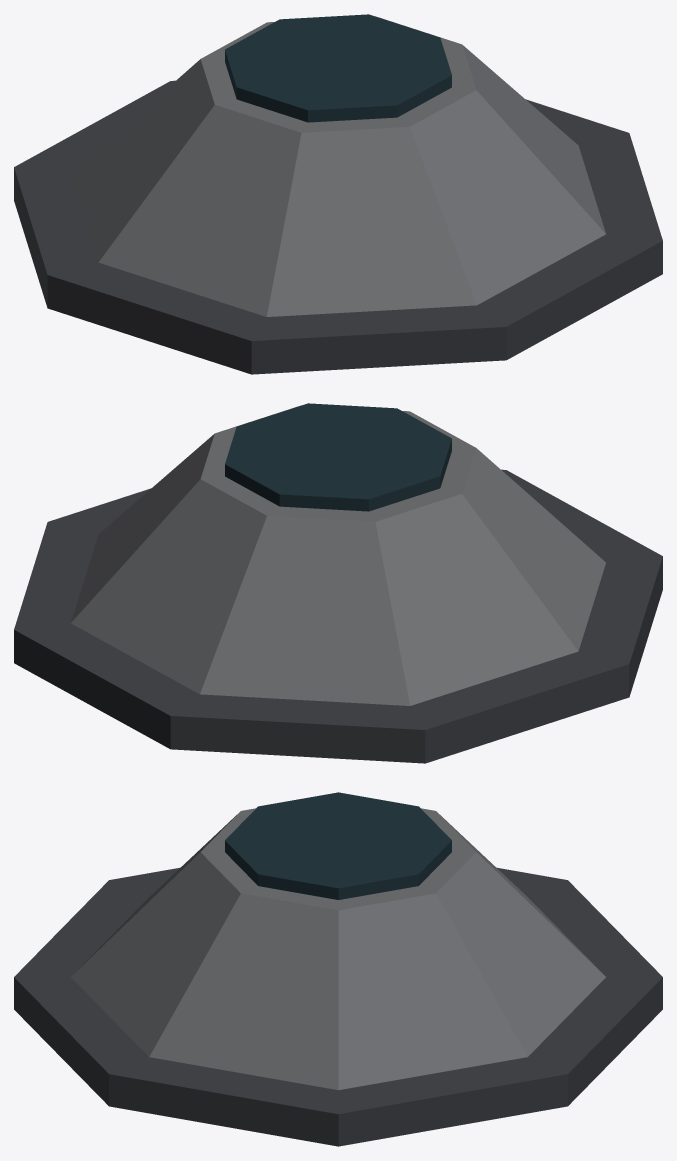
File: armoured_sensor.glb
The picture shows the model from 3 angles, top to bottom: view 1: azimuth 30°, elevation 25°; view 2: azimuth 150°, elevation 25°; view 3: azimuth 270°, elevation 25°; orthographic projection. The views are drawn at different scales.
Size of the model in its own units: 0.4 by 0.115 by 0.4.
